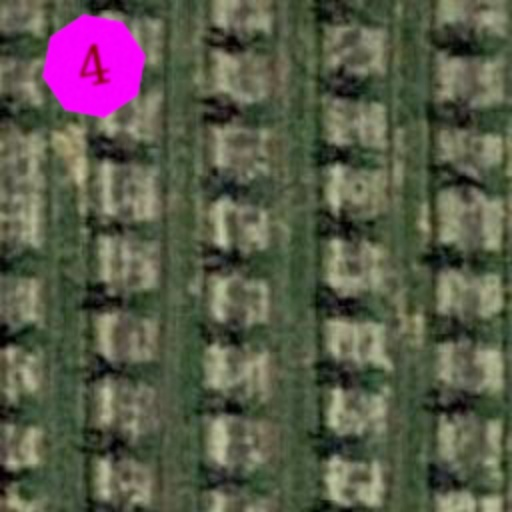octagon: (30, 2, 158, 130)
